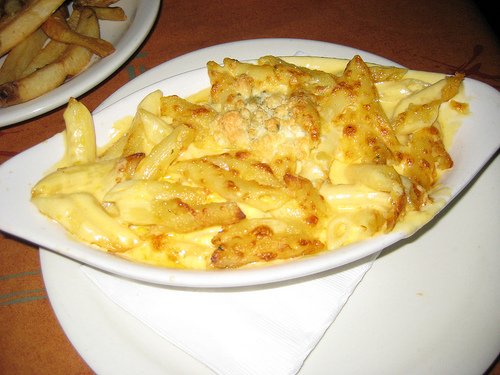macncheese: (33, 50, 462, 272)
